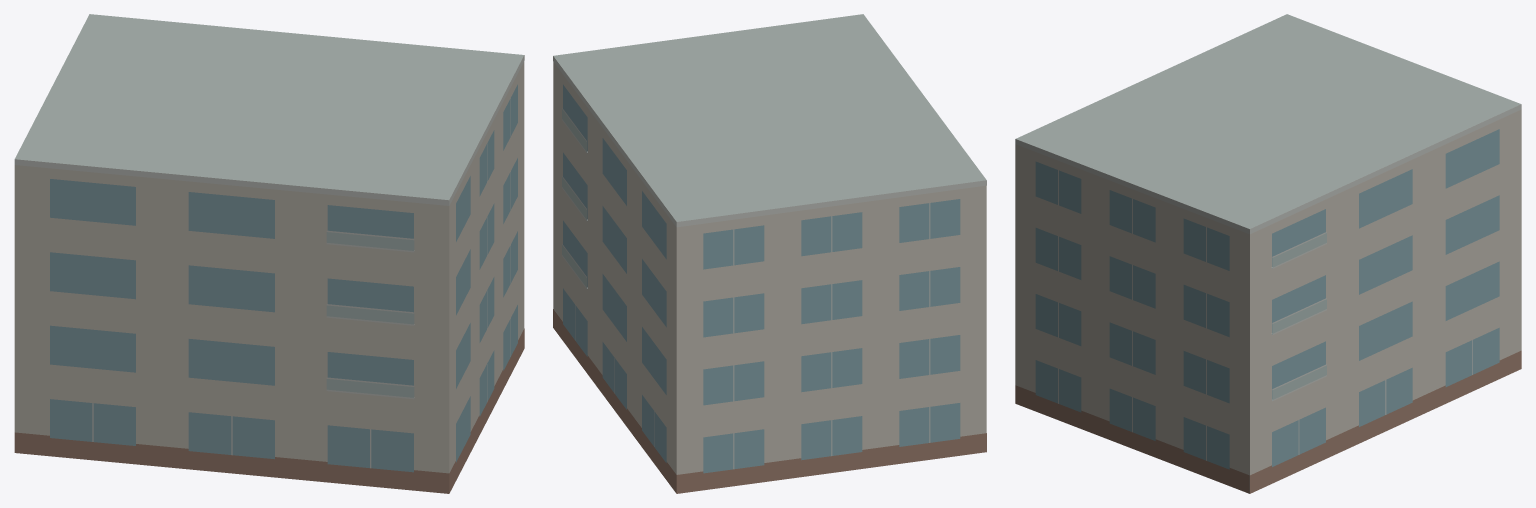
The model's file is survey-upis-32777621.glb.
The picture shows the model from 3 angles, left to right: view 1: azimuth 30°, elevation 25°; view 2: azimuth 150°, elevation 25°; view 3: azimuth 270°, elevation 25°; orthographic projection. The views are drawn at different scales.
Visible parts, largest first — view 1: survey-upis-32777621.tmp; view 2: survey-upis-32777621.tmp; view 3: survey-upis-32777621.tmp.
Part boxes in pixels (box(x1,y1,x2,y2)): survey-upis-32777621.tmp: box(14, 14, 524, 493); survey-upis-32777621.tmp: box(553, 14, 986, 493); survey-upis-32777621.tmp: box(1015, 14, 1521, 493).
Bounding box in the file's own units: 21.62 × 12.4 × 21.49.
